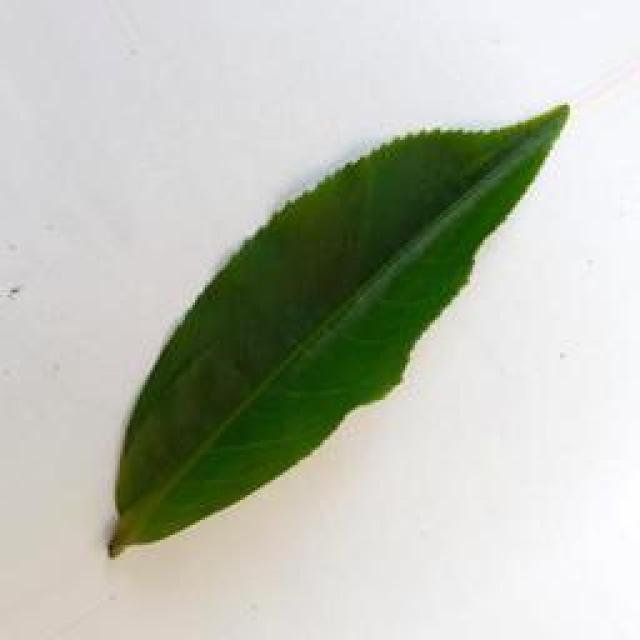Healthy: (88, 85, 572, 563)
